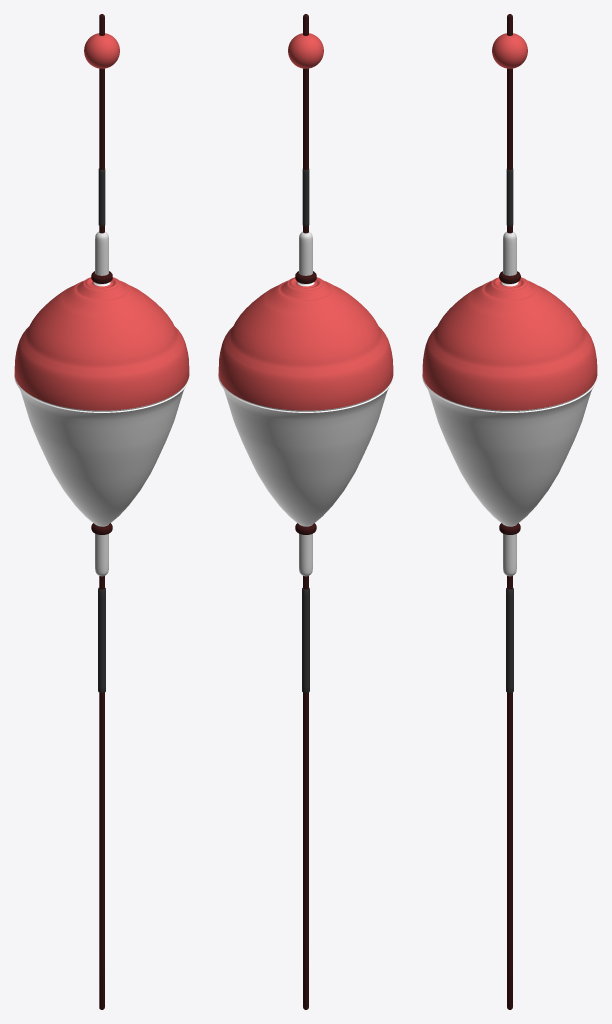
File: Bobber_Model.fbx
The picture shows the model from 3 angles, left to right: view 1: azimuth 30°, elevation 25°; view 2: azimuth 150°, elevation 25°; view 3: azimuth 270°, elevation 25°; orthographic projection.
Visible parts, largest first — view 1: b, defaultMaterial.002, c, ?????, defaultMaterial.003, defaultMaterial.004; view 2: b, defaultMaterial.002, c, ?????, defaultMaterial.003, defaultMaterial.004; view 3: b, defaultMaterial.002, c, ?????, defaultMaterial.003, defaultMaterial.004.
Part boxes in pixels (box(x1,y1,x2,y2)): b: box(14, 277, 189, 525); defaultMaterial.002: box(99, 14, 104, 1009); c: box(95, 231, 108, 576); ?????: box(84, 33, 119, 68); defaultMaterial.003: box(98, 588, 105, 692); defaultMaterial.004: box(98, 168, 105, 226); b: box(218, 277, 393, 525); defaultMaterial.002: box(303, 14, 308, 1009); c: box(299, 231, 312, 576); ?????: box(288, 33, 323, 68); defaultMaterial.003: box(302, 588, 309, 692); defaultMaterial.004: box(302, 169, 309, 226); b: box(422, 277, 597, 525); defaultMaterial.002: box(507, 14, 512, 1009); c: box(503, 231, 516, 576); ?????: box(492, 33, 527, 68); defaultMaterial.003: box(506, 588, 513, 692); defaultMaterial.004: box(506, 169, 513, 226).
Bounding box in the file's own units: 12682 × 79419 × 12684.
